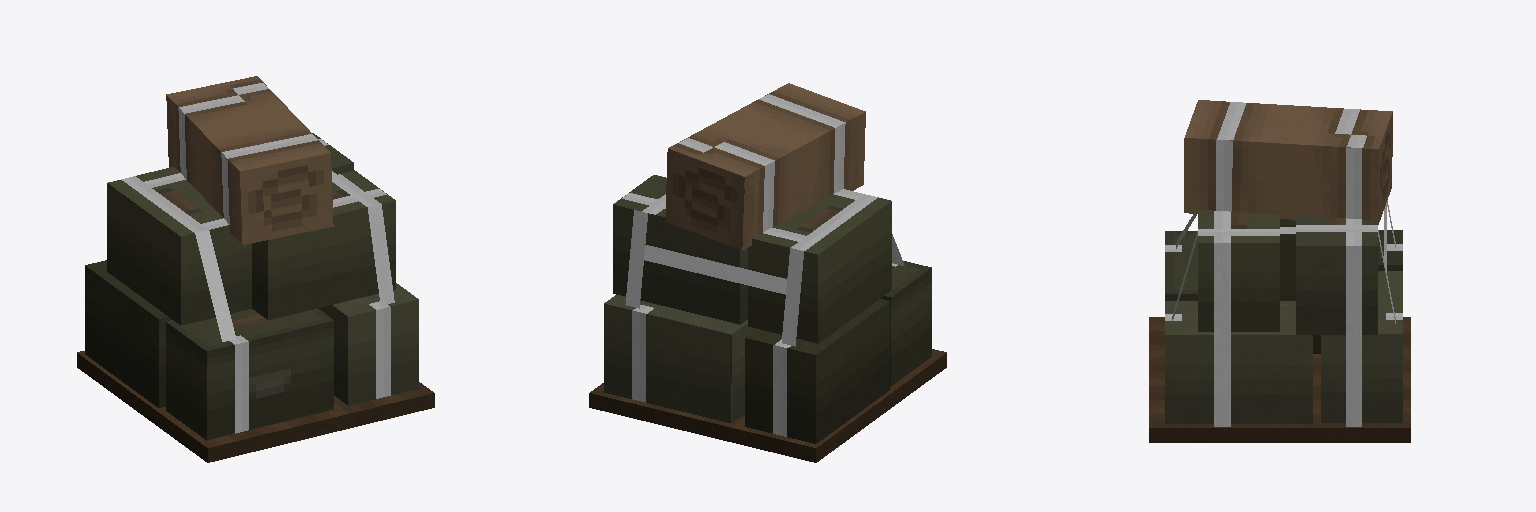
The picture shows the model from 3 angles: view 1: azimuth 30°, elevation 25°; view 2: azimuth 150°, elevation 25°; view 3: azimuth 270°, elevation 25°; orthographic projection.
Parts seen in each view (by area): view 1: ammobox_obj:gunModel; view 2: ammobox_obj:gunModel; view 3: ammobox_obj:gunModel.
Part boxes in pixels (bbox=[...]): ammobox_obj:gunModel: bbox=[77, 76, 434, 462]; ammobox_obj:gunModel: bbox=[589, 83, 946, 462]; ammobox_obj:gunModel: bbox=[1149, 100, 1410, 442].
Size of the model in its own units: 1 by 1.11 by 1.
1 materials, 1 textured.